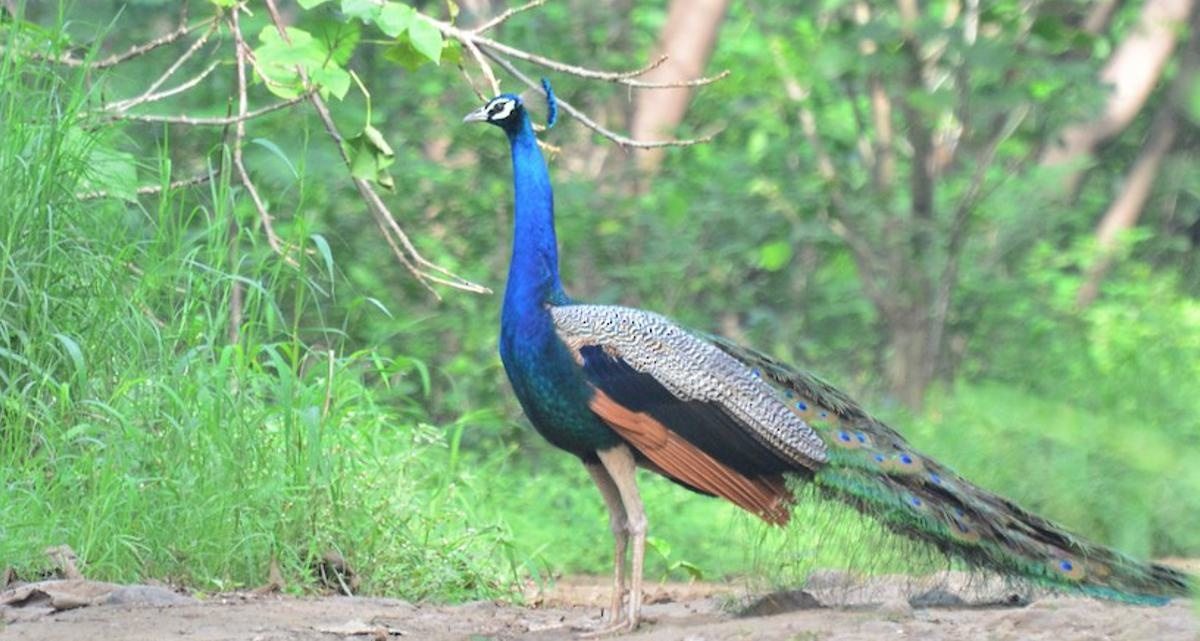peacock: (448, 61, 1044, 633)
